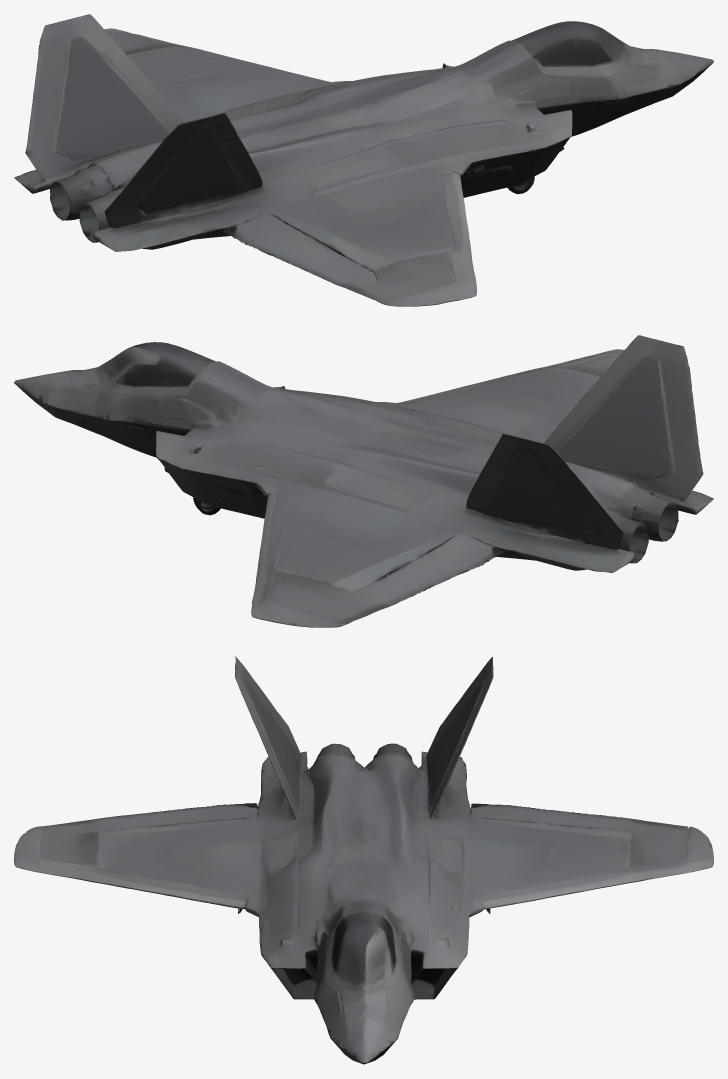
Rendered from caca_furtivo.glb.
3 renders of one model, top to bottom at view 1: azimuth 30°, elevation 25°; view 2: azimuth 150°, elevation 25°; view 3: azimuth 270°, elevation 25°, orthographic. The views are drawn at different scales.
Parts seen in each view (by area): view 1: tripo_node_35e4edde-9add-4c41-8c50-5d7532918821; view 2: tripo_node_35e4edde-9add-4c41-8c50-5d7532918821; view 3: tripo_node_35e4edde-9add-4c41-8c50-5d7532918821.
Boxes of the visible parts, <box> form: tripo_node_35e4edde-9add-4c41-8c50-5d7532918821: <box>14,14,713,306</box>; tripo_node_35e4edde-9add-4c41-8c50-5d7532918821: <box>14,335,713,627</box>; tripo_node_35e4edde-9add-4c41-8c50-5d7532918821: <box>14,656,713,1064</box>.
Size of the model in its own units: 1 by 0.3232 by 0.9774.
Materials: 1 (1 with a texture image).
